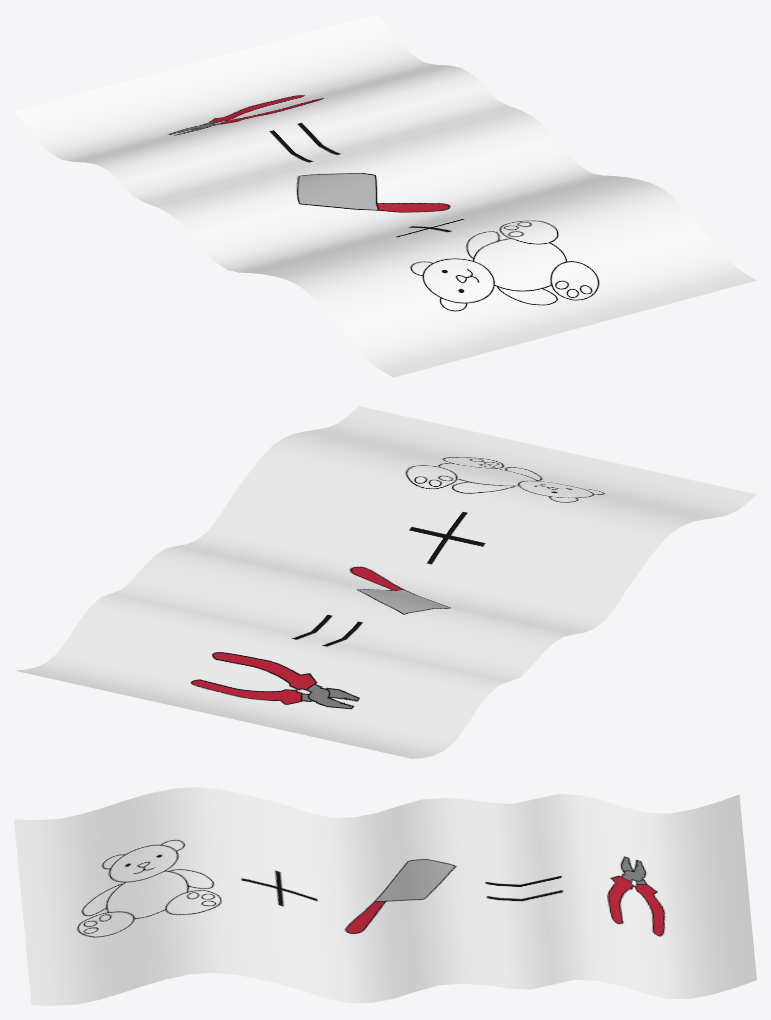
File: instrucciones.FBX
3 renders of one model, top to bottom at view 1: azimuth 30°, elevation 25°; view 2: azimuth 150°, elevation 25°; view 3: azimuth 270°, elevation 25°, orthographic. The views are drawn at different scales.
Parts seen in each view (by area): view 1: Plane001; view 2: Plane001; view 3: Plane001.
Boxes of the visible parts, box(x1,y1,x2,y2) form: Plane001: box(14, 14, 756, 377); Plane001: box(15, 406, 756, 758); Plane001: box(14, 787, 756, 1005).
Bounding box in the file's own units: 69.35 × 5.58 × 110.
1 material, 1 textured.
